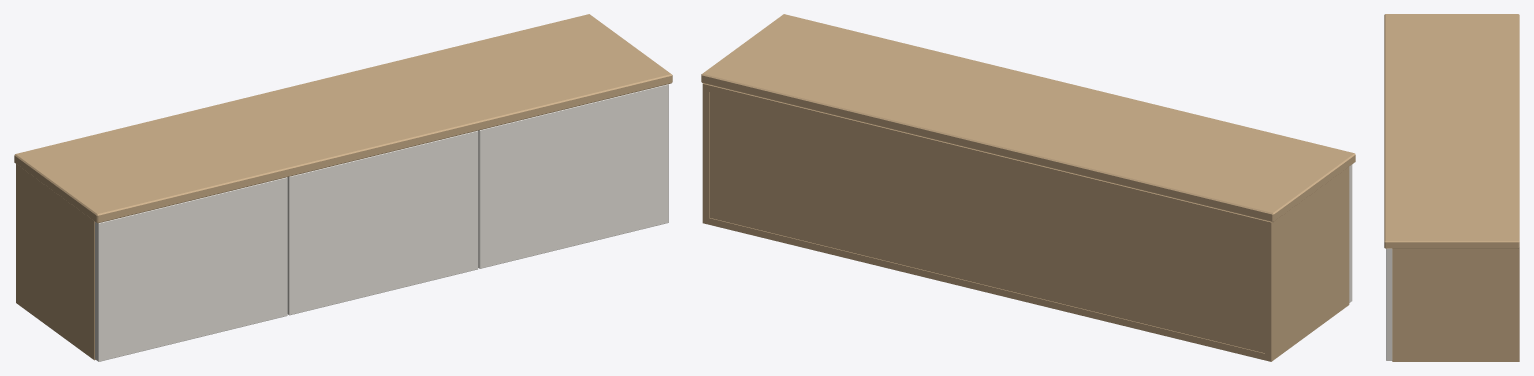
The model's file is 33_komoda_wiszaca_160_klapy.glb.
The picture shows the model from 3 angles, left to right: view 1: azimuth 30°, elevation 25°; view 2: azimuth 150°, elevation 25°; view 3: azimuth 270°, elevation 25°; orthographic projection. The views are drawn at different scales.
Visible parts, largest first — view 1: Wierzch, Front_klapa_1, Front_klapa_2, Front_klapa_3, Korpus; view 2: Korpus, Wierzch, Front_klapa_1; view 3: Wierzch, Korpus, Front_klapa_3.
Part boxes in pixels (left/top/right/bottom): Wierzch: left=14, top=14, right=672, bottom=223; Front_klapa_1: left=95, top=177, right=287, bottom=361; Front_klapa_2: left=287, top=130, right=478, bottom=315; Front_klapa_3: left=478, top=84, right=668, bottom=268; Korpus: left=16, top=164, right=95, bottom=360; Korpus: left=702, top=83, right=1349, bottom=361; Wierzch: left=701, top=14, right=1355, bottom=222; Front_klapa_1: left=1349, top=164, right=1352, bottom=302; Wierzch: left=1384, top=14, right=1519, bottom=248; Korpus: left=1392, top=248, right=1519, bottom=361; Front_klapa_3: left=1386, top=248, right=1392, bottom=360.
Bounding box in the file's own units: 1.61 × 0.4 × 0.404.
